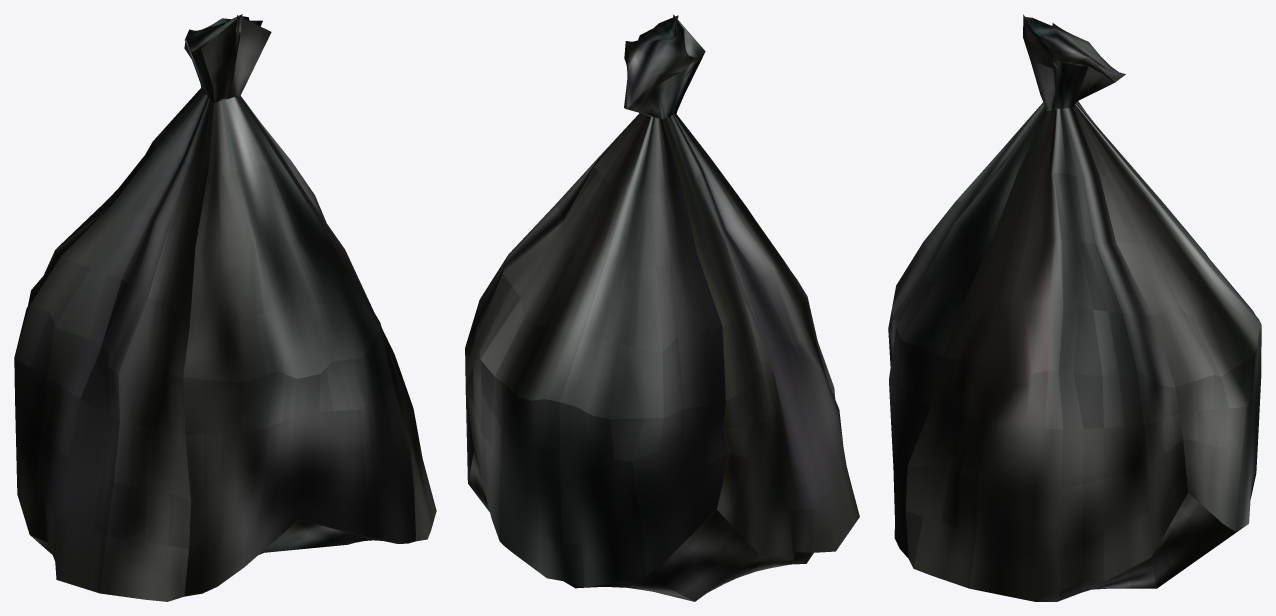
File: trash.fbx
The picture shows the model from 3 angles, left to right: view 1: azimuth 30°, elevation 25°; view 2: azimuth 150°, elevation 25°; view 3: azimuth 270°, elevation 25°; orthographic projection. The views are drawn at different scales.
Visible parts, largest first — view 1: Cube; view 2: Cube; view 3: Cube.
Boxes of the visible parts, x1,y1,x2,y2 form: Cube: (14, 14, 436, 601); Cube: (465, 14, 859, 601); Cube: (888, 14, 1261, 601).
Size of the model in its own units: 138 by 206 by 131.
Materials: 1 (1 with a texture image).
